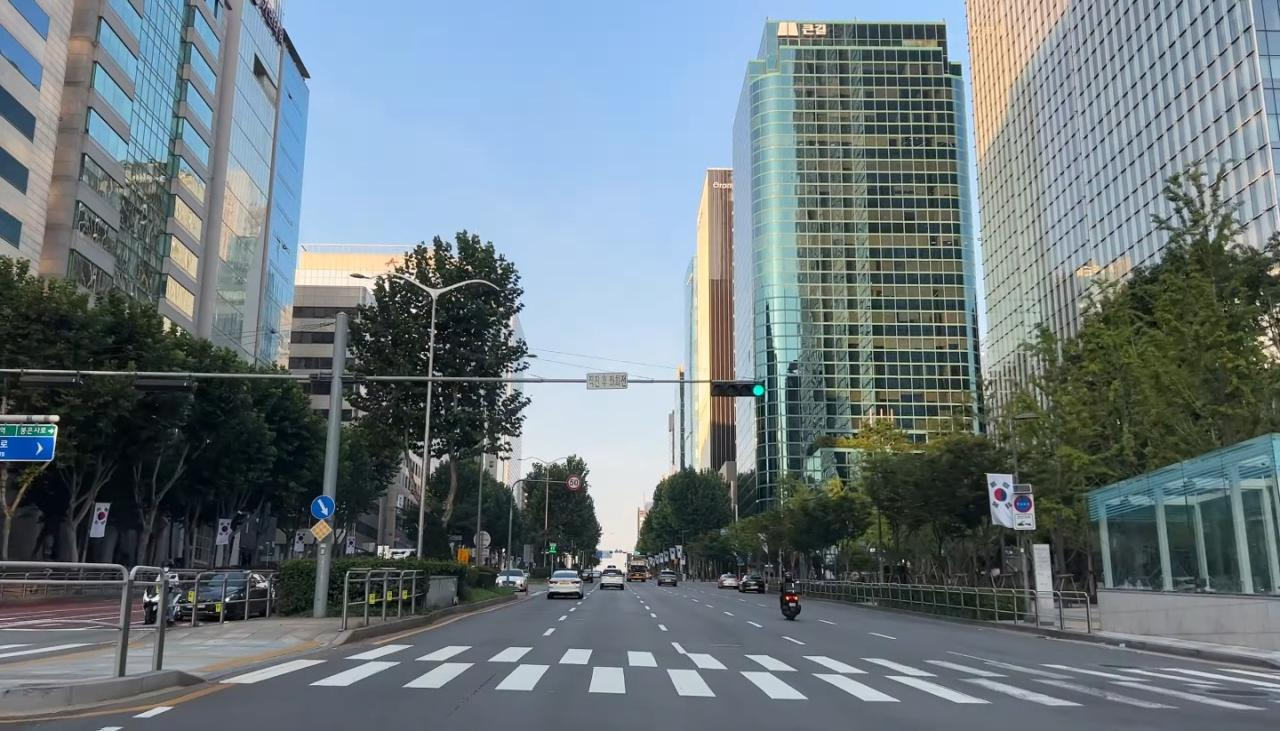Green Light: (751, 383, 766, 397)
